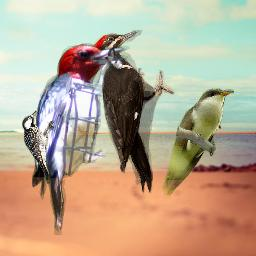Cuckoo: (161, 88, 234, 196)
Woodpecker: (32, 43, 131, 235), (87, 30, 175, 195), (22, 110, 56, 184)
